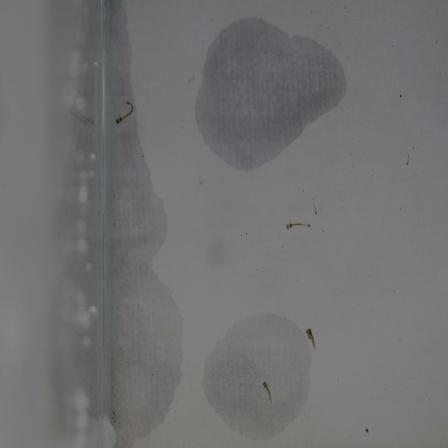Jentik-Nyamuk: (106, 96, 138, 130), (284, 213, 315, 237), (302, 326, 321, 353), (262, 377, 275, 407)
